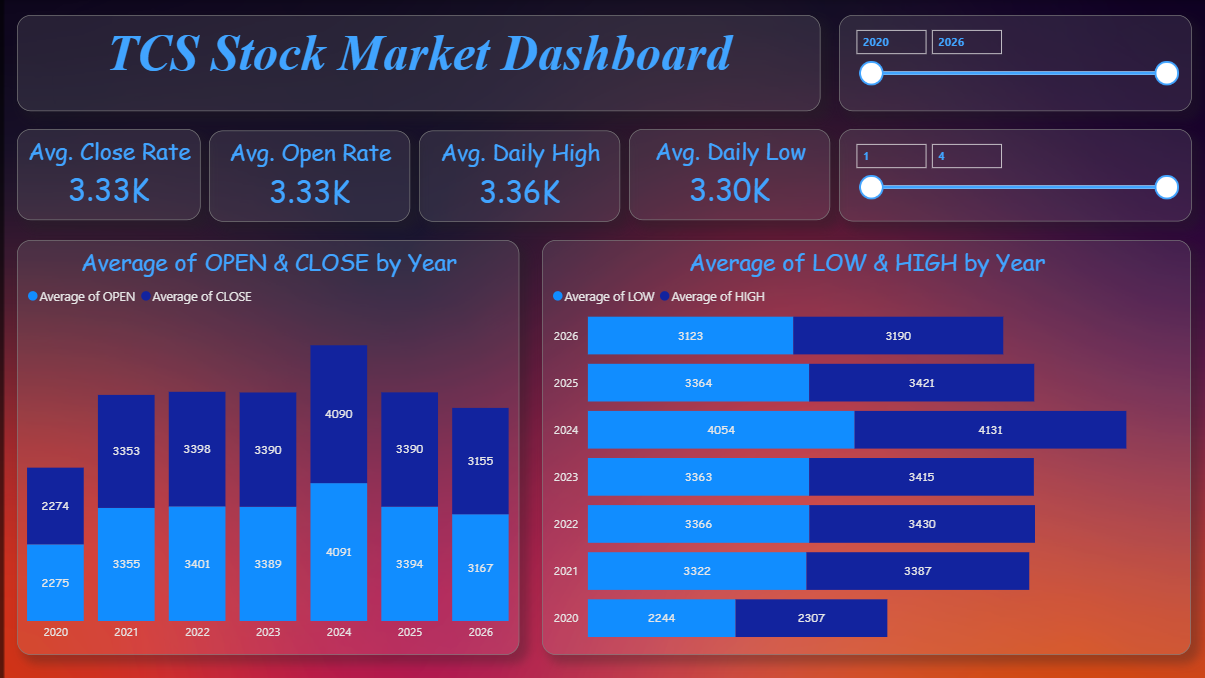

The dashboard page shown, as its layout file describes it:
{"tool":"powerbi","page":{"name":"TCS","canvas":[1280,720],"ordinal":0},"visuals":[{"type":"card","title":"Avg. Daily High","fields":{"Values":["Avg(Combined_TCS_Stock_Data.HIGH)"]},"box":[445,138,213.5,96.4],"z":0},{"type":"card","title":"Avg. Daily Low","fields":{"Values":["Avg(Combined_TCS_Stock_Data.LOW)"]},"box":[667.6,136.1,213.5,96.4],"z":1},{"type":"textbox","box":[18.9,15.1,852.3,102],"z":2},{"type":"slicer","fields":{"Values":["Combined_TCS_Stock_Data.Year"]},"box":[890.1,15.1,374.2,102],"z":3},{"type":"slicer","fields":{"Values":["Combined_TCS_Stock_Data.Quater"]},"box":[890.1,136.1,374.2,98.3],"z":5},{"type":"card","title":"Avg. Close Rate","fields":{"Values":["Avg(Combined_TCS_Stock_Data.CLOSE)"]},"box":[18.9,136.1,194.6,96.4],"z":7},{"type":"card","title":"Avg. Open Rate","fields":{"Values":["Avg(Combined_TCS_Stock_Data.OPEN)"]},"box":[222.5,138,213.5,96.4],"z":8},{"type":"columnChart","title":"Average of OPEN & CLOSE by Year","fields":{"Category":["Combined_TCS_Stock_Data.Year"],"Y":["Avg(Combined_TCS_Stock_Data.OPEN)","Avg(Combined_TCS_Stock_Data.CLOSE)"]},"box":[18.9,255.1,532.9,440.3],"z":9},{"type":"barChart","title":"Average of LOW & HIGH by Year","fields":{"Category":["Combined_TCS_Stock_Data.Year"],"Y":["Avg(Combined_TCS_Stock_Data.LOW)","Avg(Combined_TCS_Stock_Data.HIGH)"]},"box":[576.4,255.1,687.9,440.3],"z":10}]}

Visuals, with their boxes in screenshot pixels (x1, y1, x2, y2), scaled from the page's 1280x720 canvas onto the 1205x678 screenshot:
"Avg. Daily High" card: {"x1": 419, "y1": 130, "x2": 620, "y2": 221}
"Avg. Daily Low" card: {"x1": 628, "y1": 128, "x2": 829, "y2": 219}
textbox: {"x1": 18, "y1": 14, "x2": 820, "y2": 110}
slicer - Combined_TCS_Stock_Data.Year: {"x1": 838, "y1": 14, "x2": 1190, "y2": 110}
slicer - Combined_TCS_Stock_Data.Quater: {"x1": 838, "y1": 128, "x2": 1190, "y2": 221}
"Avg. Close Rate" card: {"x1": 18, "y1": 128, "x2": 201, "y2": 219}
"Avg. Open Rate" card: {"x1": 209, "y1": 130, "x2": 410, "y2": 221}
"Average of OPEN & CLOSE by Year" columnChart: {"x1": 18, "y1": 240, "x2": 519, "y2": 655}
"Average of LOW & HIGH by Year" barChart: {"x1": 543, "y1": 240, "x2": 1190, "y2": 655}
